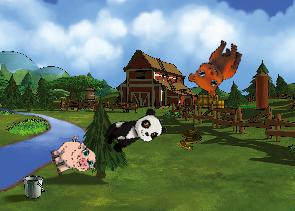bear: (184, 31, 246, 101)
panda: (100, 105, 167, 158)
pig: (46, 132, 99, 183)
